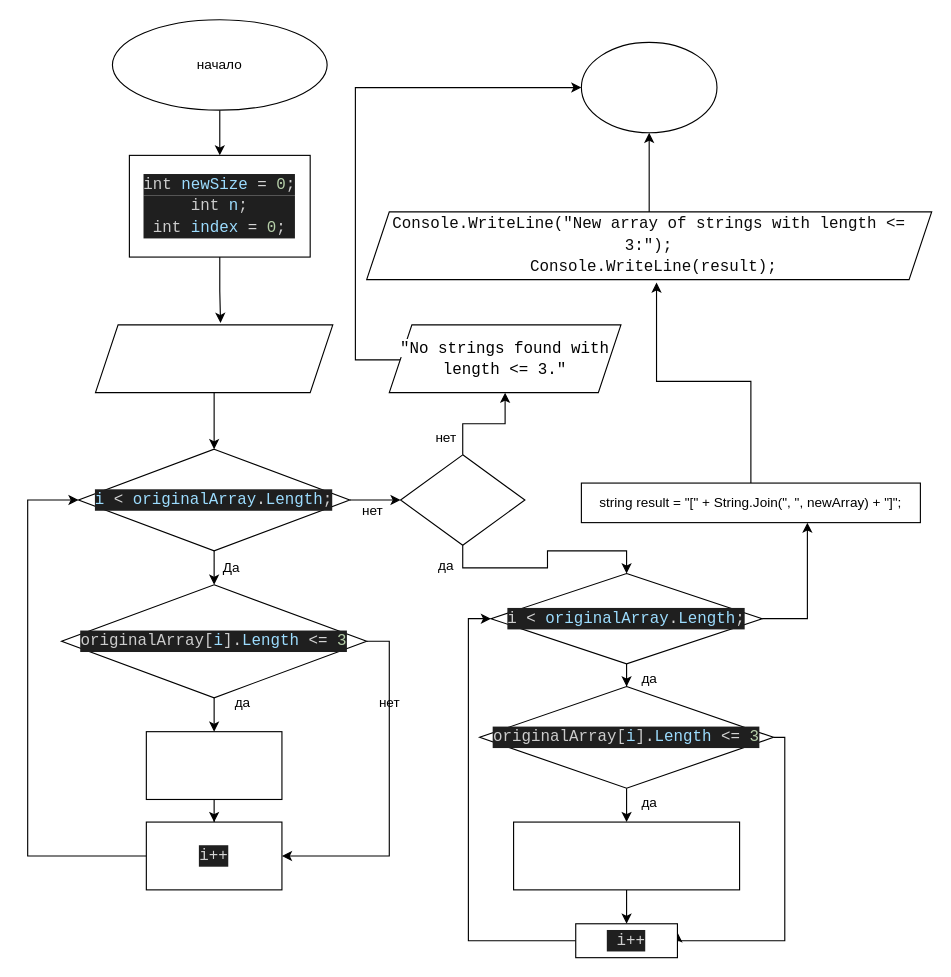
This 951x977 diagram has some shape labels left out. The box of each missing label's shape, as (x1, y1, x2, y2) in pixels:
newArray[ index ] = originalArray [ i ]; index ++ ;: (512, 821, 740, 890)
newSize ++: (145, 731, 282, 799)
newSize > 0: (399, 454, 525, 545)
Ввод n ввод строк originalArray: (94, 324, 333, 393)
Конец: (580, 41, 717, 133)
